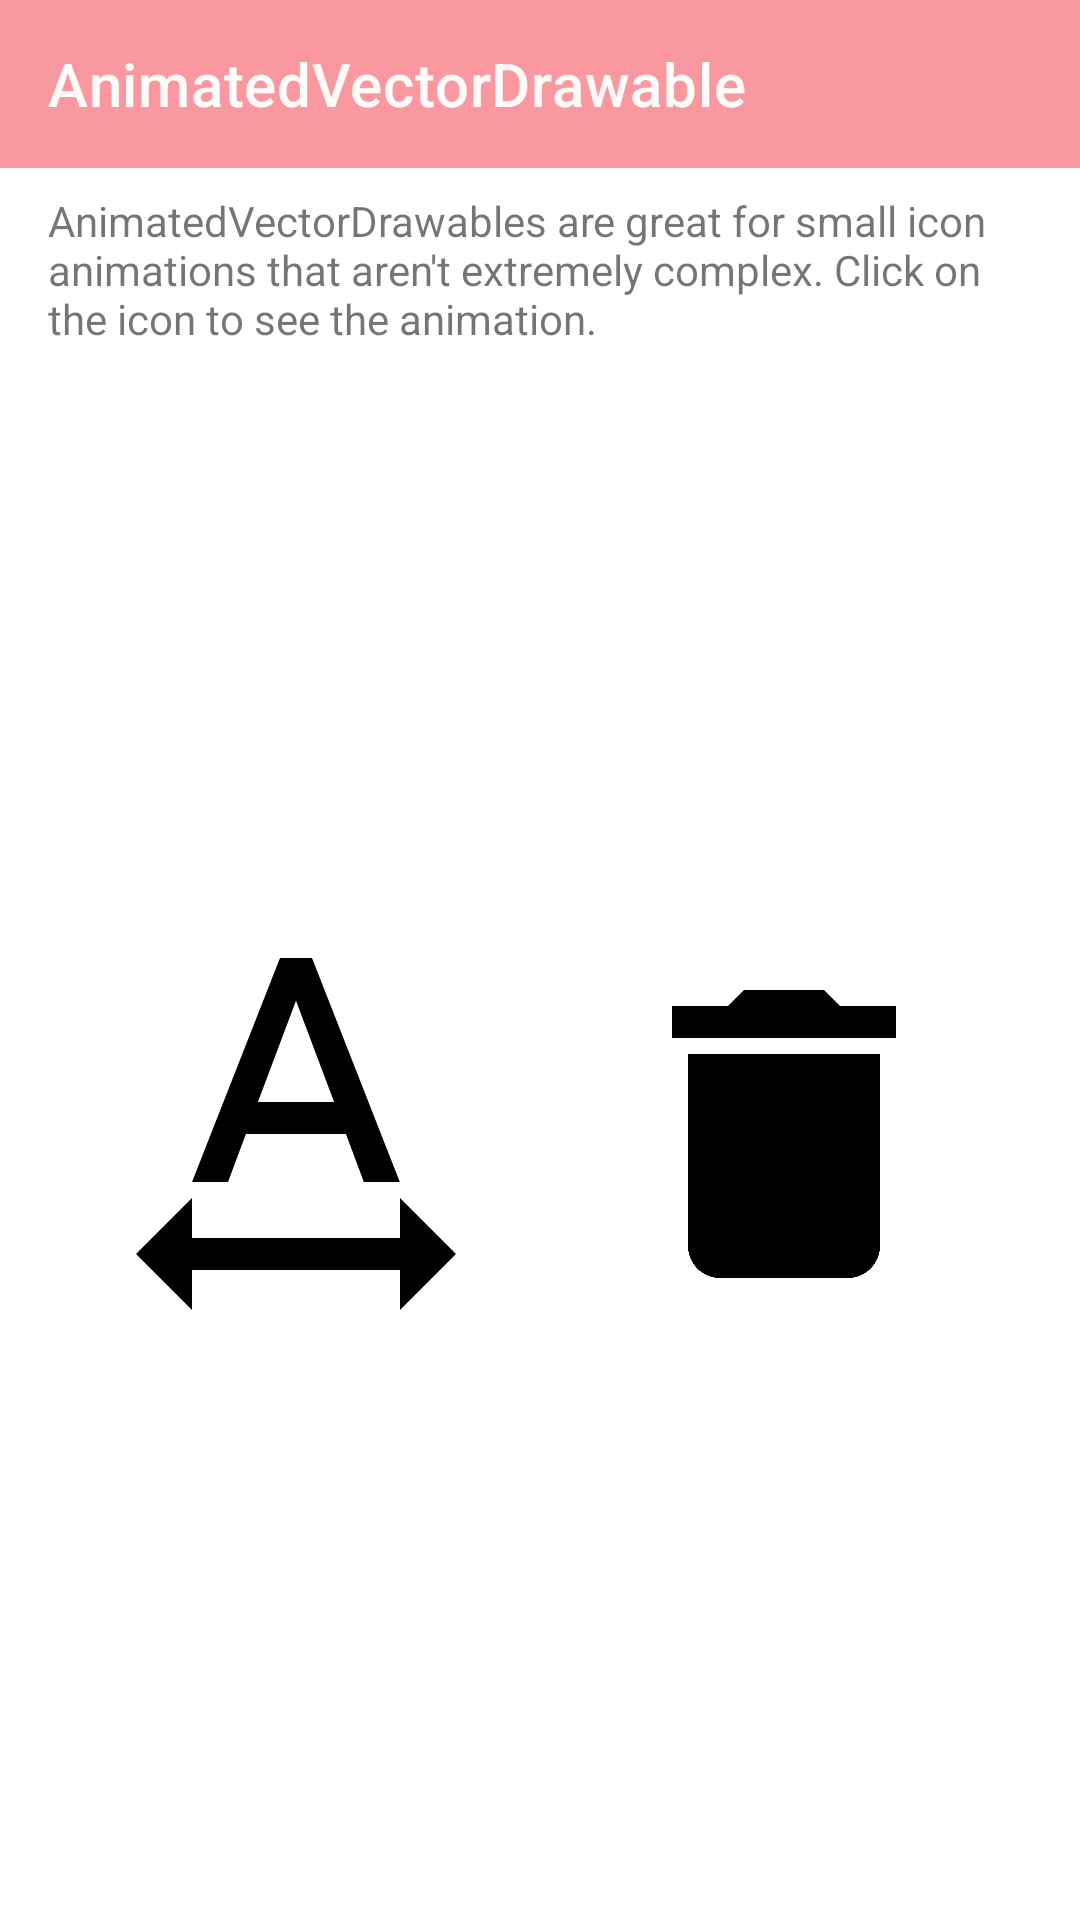

Locate icon controls on the screen. Image size 1080px x 1920px, boxes as (x1, y1, x2, y2).
avd letter spacing: (136, 958, 456, 1310)
